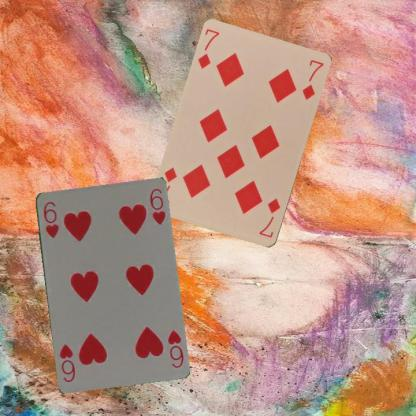6h: (40, 199, 60, 240), (165, 327, 184, 369)
7d: (195, 26, 221, 70), (256, 196, 282, 239)
